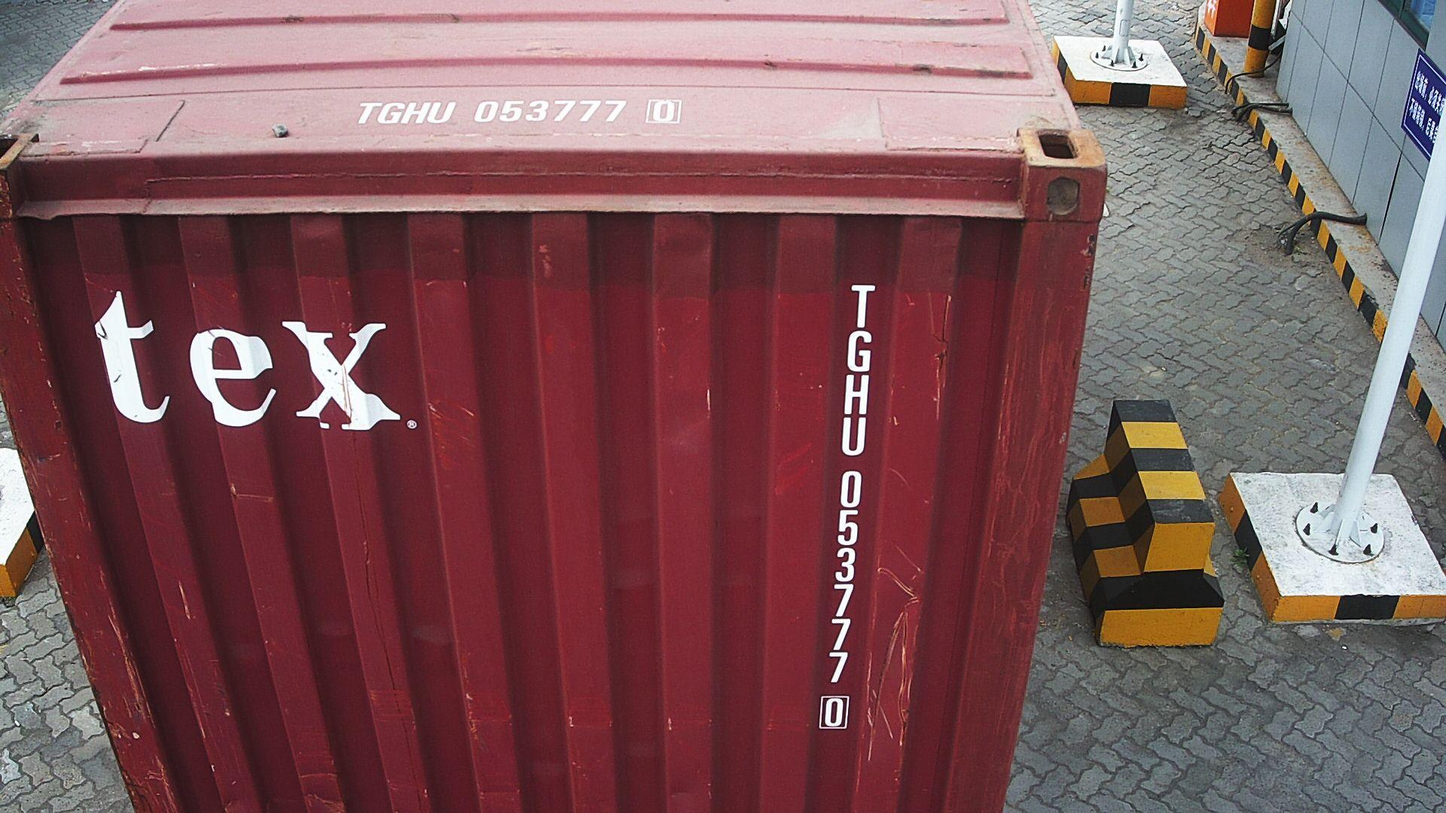container-numbers: (813, 279, 880, 734), (349, 95, 690, 130)
